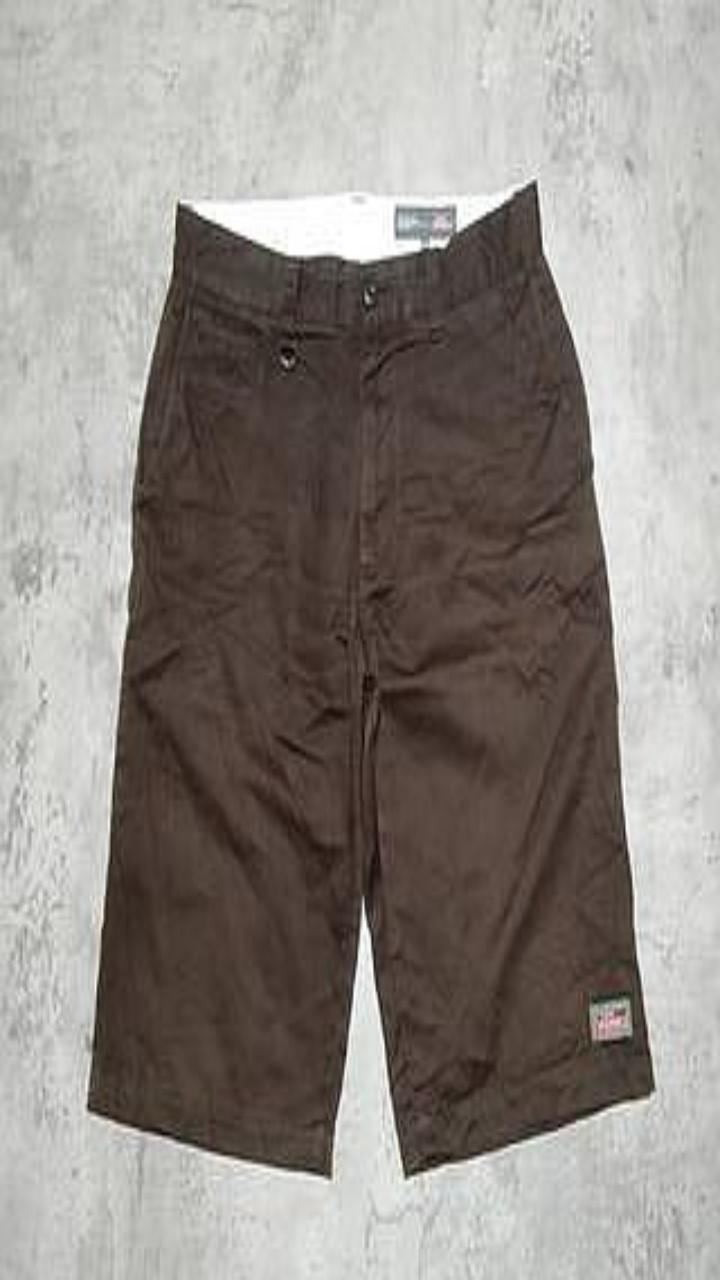Shorts: (88, 181, 654, 1176)
